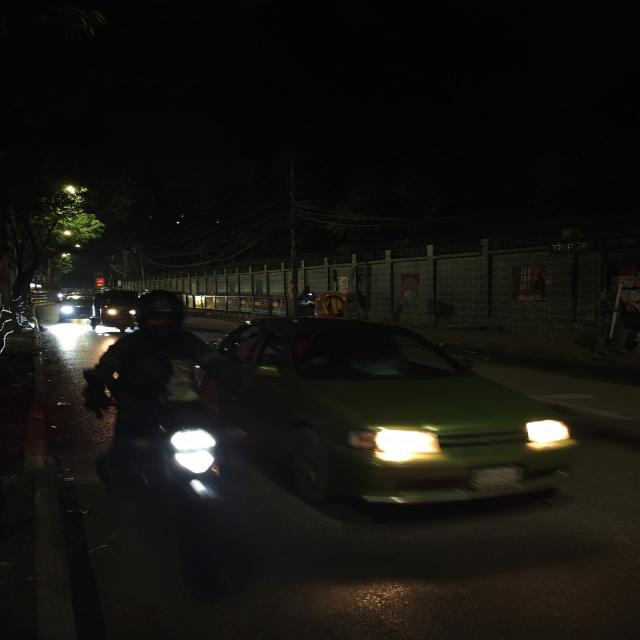car: (225, 303, 578, 518), (53, 288, 95, 326)
cng: (88, 289, 141, 335)
motorcycle: (81, 307, 252, 576)
rickshaw: (308, 285, 376, 325)
